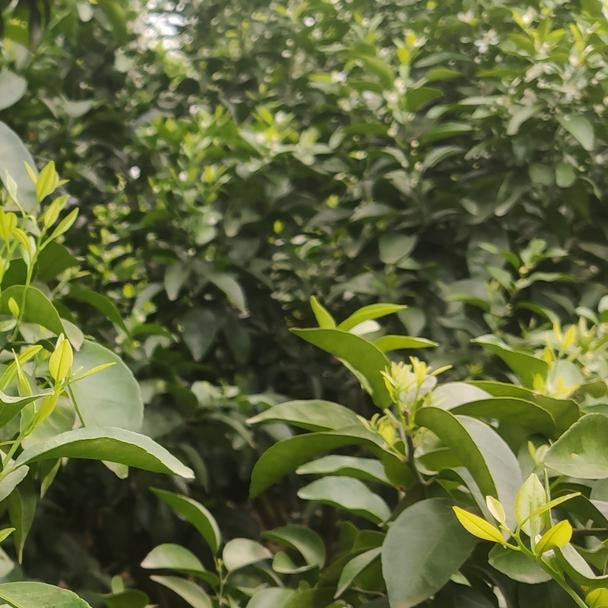shoot: (472, 472, 581, 603), (31, 333, 109, 428), (21, 198, 75, 264), (387, 351, 444, 406)
